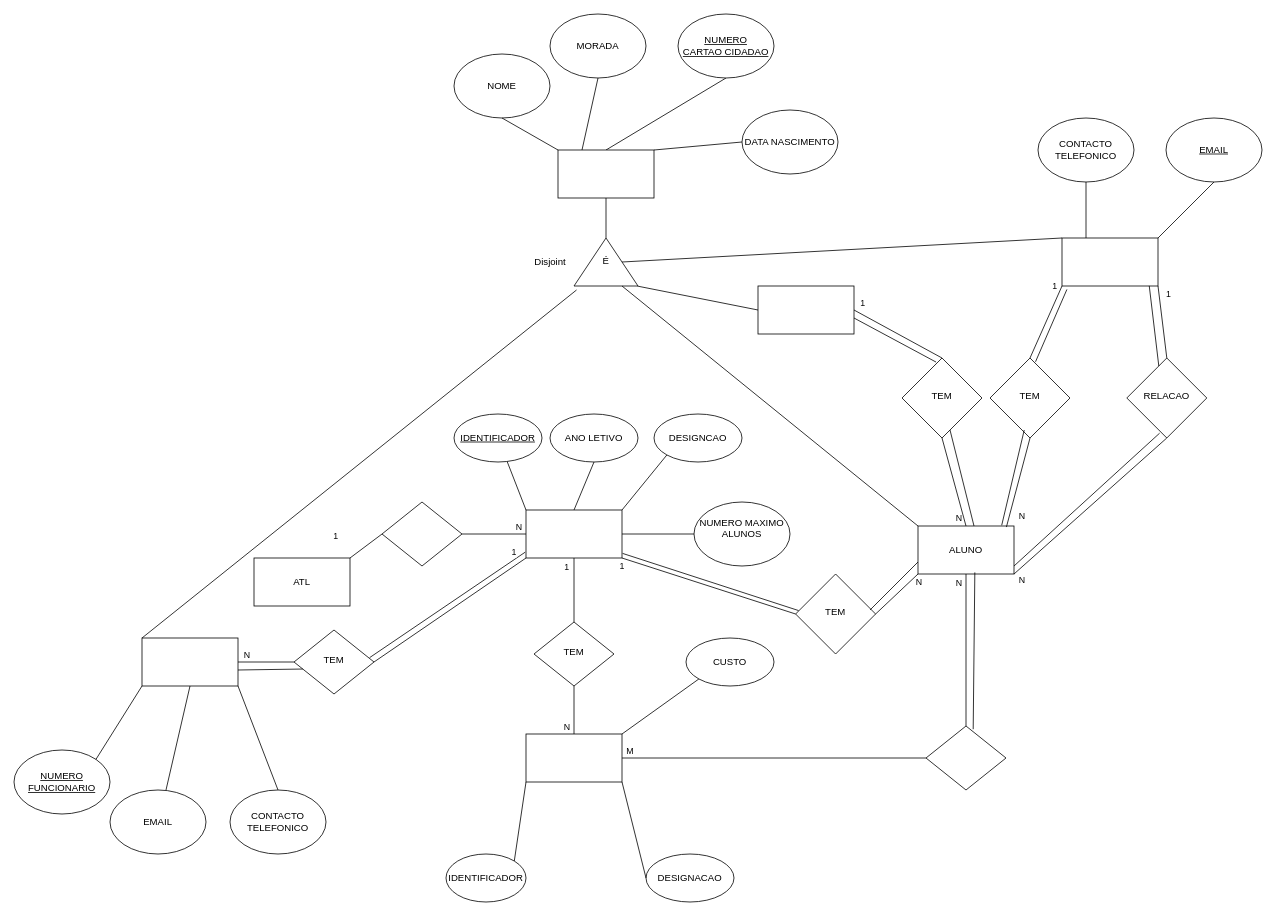
The diagram is 1276 pixels wide and 916 high, and some of its shapes have lost their labels. The centre of each missing label's shape, as x and y in pixels:
ATIVIDADES: the point at 573,757
ENCARREGADO EDUCACAO: the point at 1109,261
FREQUENTA: the point at 965,757
ORGANIZADO POR: the point at 421,533
PESSOA: the point at 605,173
PESSOA COM AUTORIZACAO: the point at 805,309
PROFESSOR: the point at 189,661
TURMA: the point at 573,533
